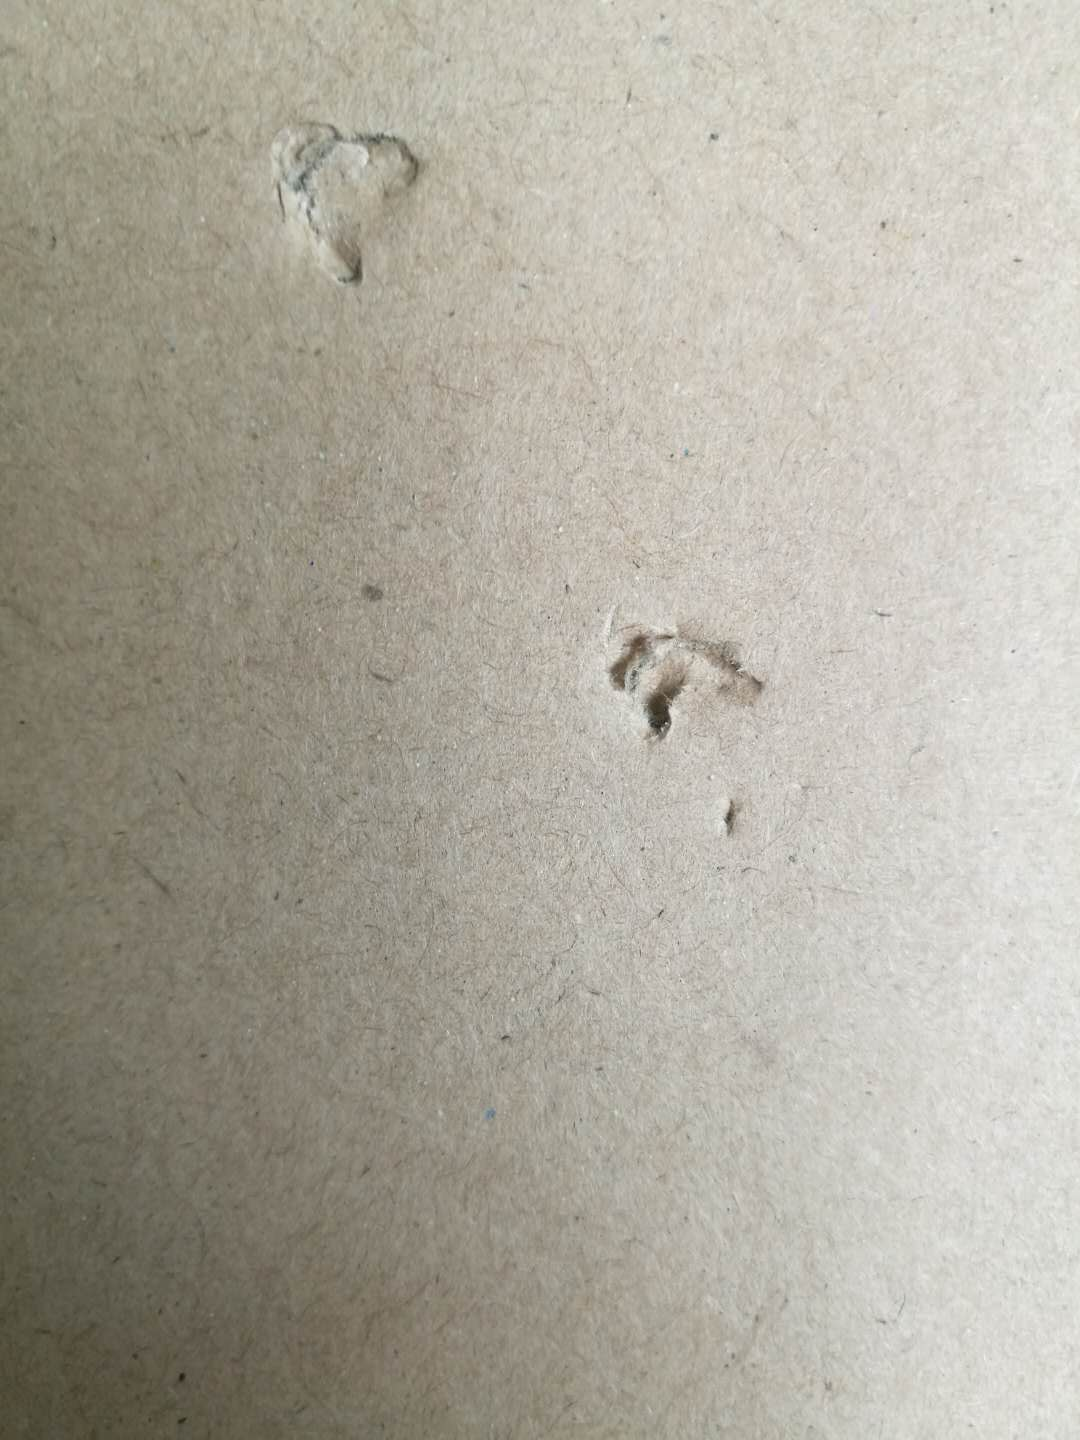defect: (554, 571, 808, 886), (226, 85, 452, 321)
